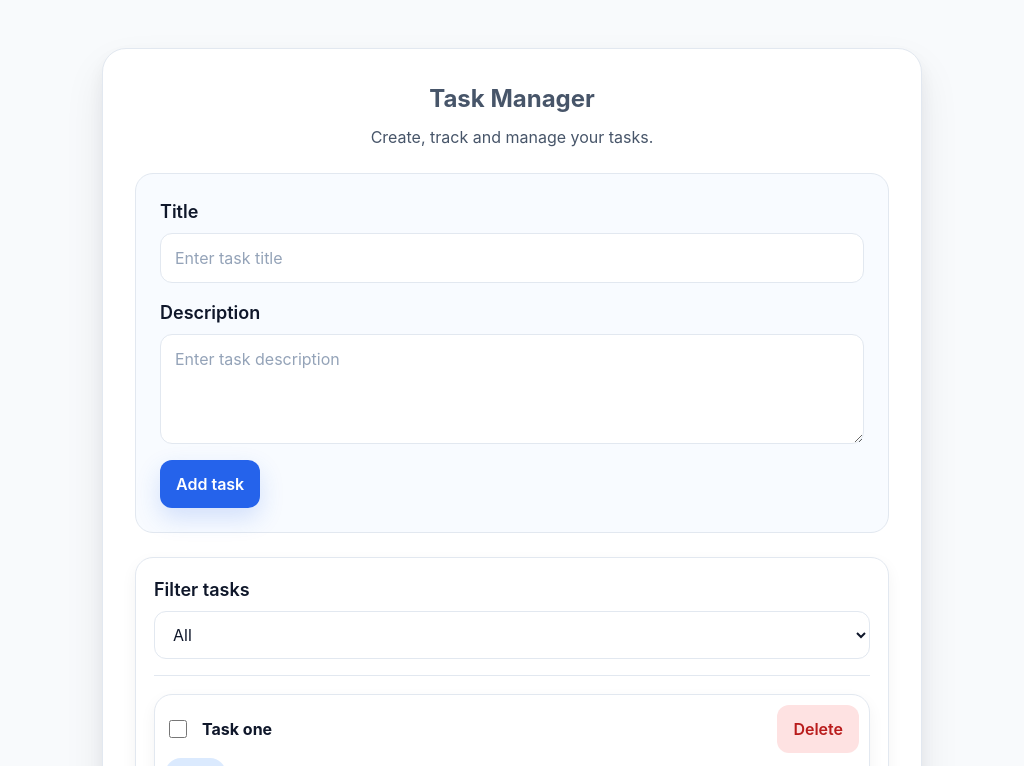
Test: HomePage › handleToggle › ska visa felmeddelande om uppdatering misslyckas
This screenshot has width=1024, height=766.
Expected: the text "Task one" is shown, left=202, top=717, right=272, bottom=741
Step 1. Click the checkbox → (178, 729), box left=169, top=720, right=187, bottom=738
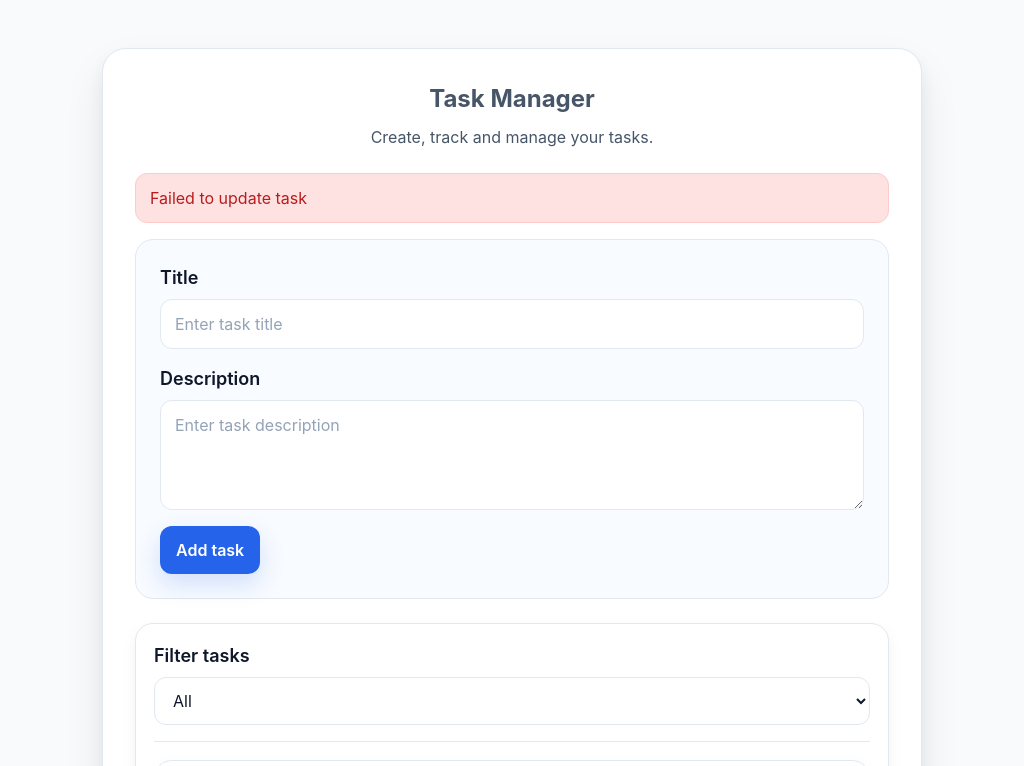
Expected: the text "Failed to update task" is shown, left=135, top=173, right=889, bottom=223
